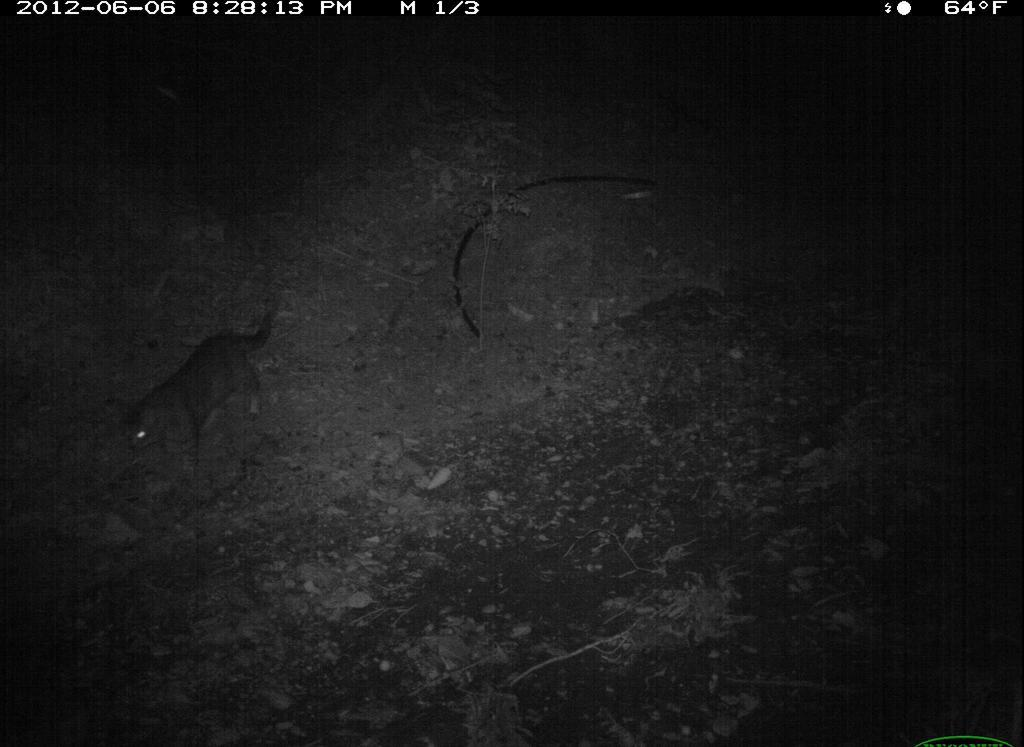cat: (94, 318, 299, 469)
